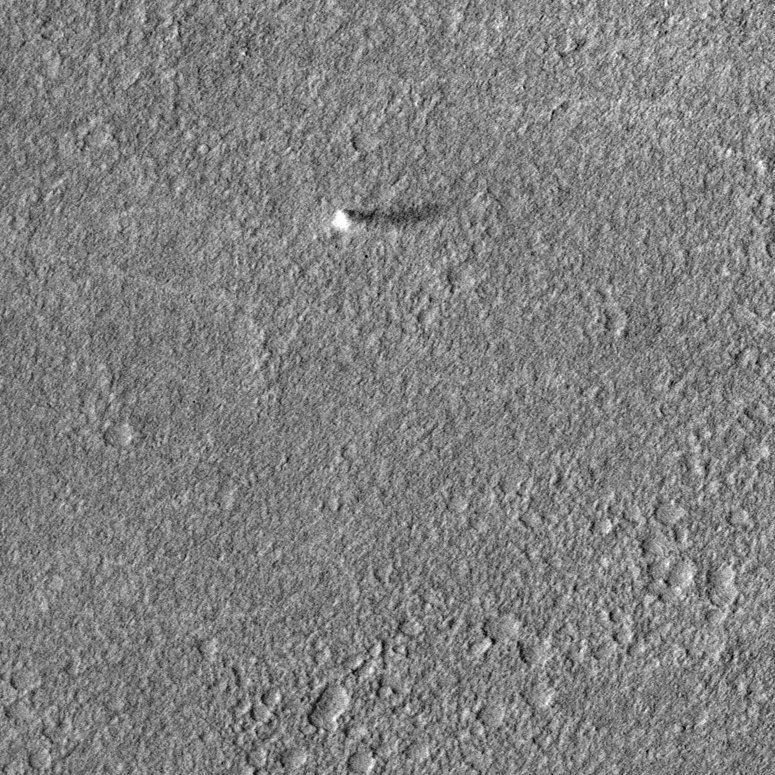dust_devil: (331, 205, 441, 234)
